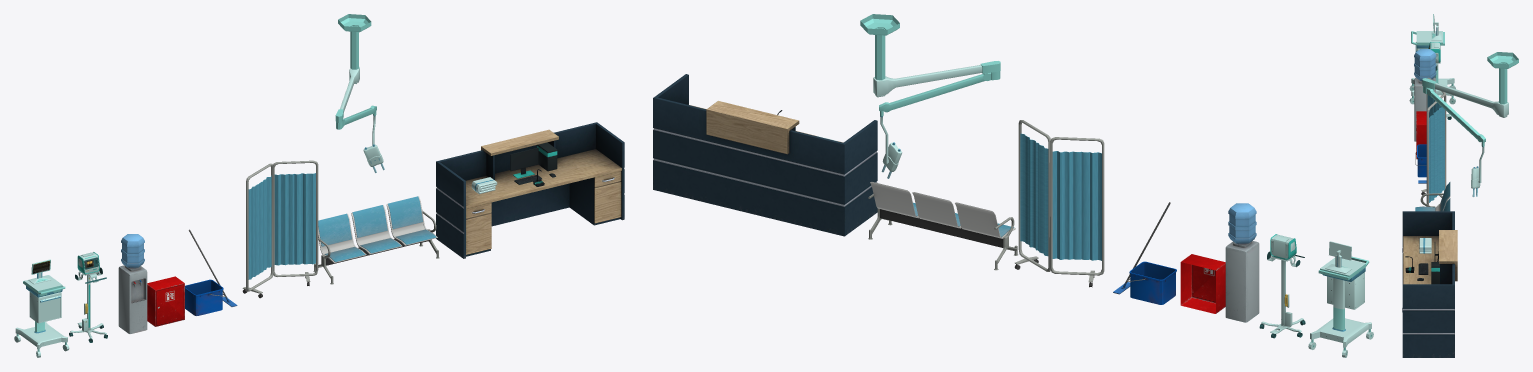
Rendered from radialogy room props.fbx.
3 views of the same model, side by side, from view 1: azimuth 30°, elevation 25°; view 2: azimuth 150°, elevation 25°; view 3: azimuth 270°, elevation 25° (orthographic). The views are drawn at different scales.
Visible parts, largest first — view 1: object_6, object_8, object_1, object_3, object_4, object_5, object_7, object_0; view 2: object_6, object_8, object_1, object_3, object_5, object_4, object_0; view 3: object_6, object_5, object_8, object_1, object_4, object_7, object_3, object_0, object_2.
Boxes of the visible parts, left/top/right/bottom form: object_6: left=436, top=122, right=624, bottom=258; object_8: left=242, top=160, right=318, bottom=298; object_1: left=118, top=229, right=237, bottom=333; object_3: left=313, top=196, right=439, bottom=284; object_4: left=14, top=259, right=69, bottom=357; object_5: left=335, top=14, right=384, bottom=172; object_7: left=510, top=142, right=557, bottom=186; object_0: left=69, top=252, right=107, bottom=342; object_6: left=653, top=74, right=877, bottom=236; object_8: left=1014, top=120, right=1104, bottom=287; object_1: left=1113, top=202, right=1259, bottom=322; object_3: left=868, top=182, right=1018, bottom=270; object_5: left=860, top=14, right=1000, bottom=178; object_4: left=1308, top=241, right=1373, bottom=357; object_0: left=1259, top=234, right=1305, bottom=338; object_6: left=1402, top=211, right=1457, bottom=357; object_5: left=1422, top=52, right=1518, bottom=196; object_8: left=1421, top=77, right=1446, bottom=206; object_1: left=1414, top=49, right=1436, bottom=183; object_4: left=1409, top=14, right=1455, bottom=104; object_7: left=1405, top=242, right=1439, bottom=284; object_3: left=1415, top=182, right=1450, bottom=211; object_0: left=1428, top=42, right=1451, bottom=119; object_2: left=1419, top=238, right=1431, bottom=253.
Size of the model in its own units: 10.79 by 3.77 by 1.99.
9 materials, 9 textured.
